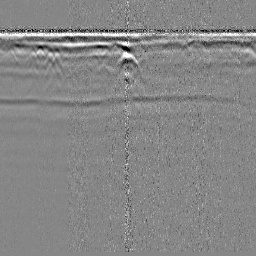cavity: (115, 49, 141, 70)
